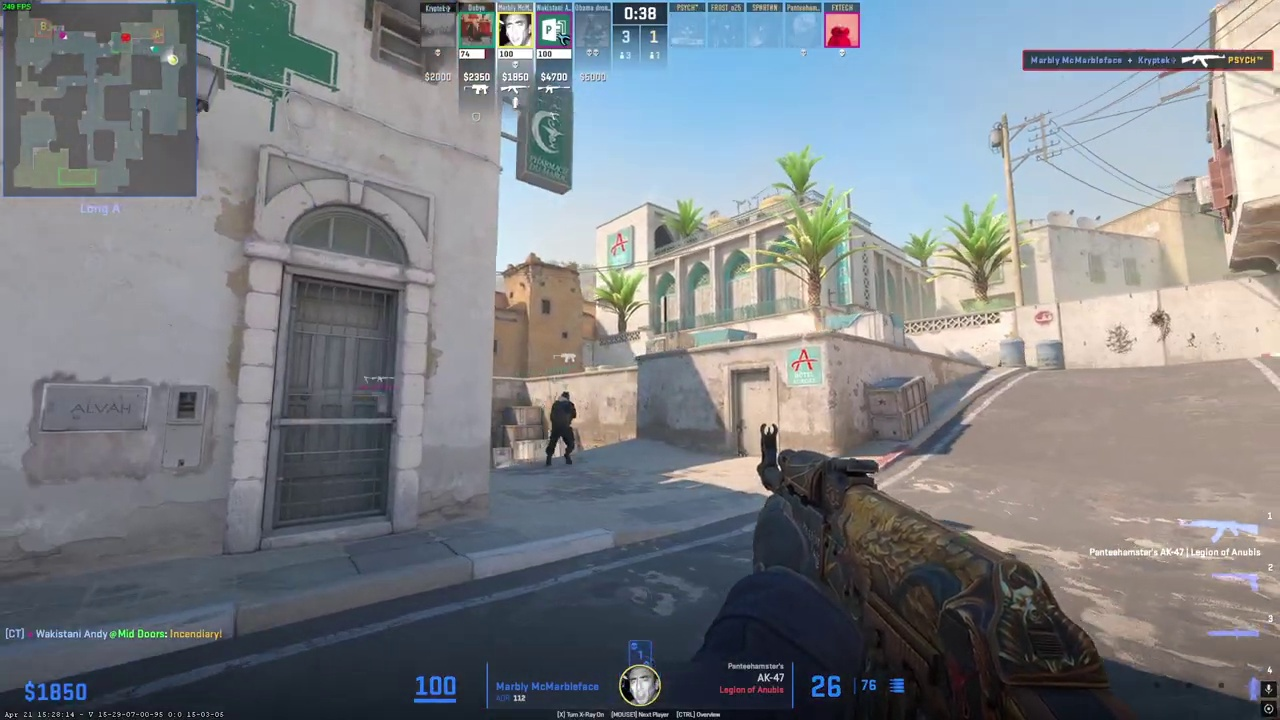CT: (546, 391, 580, 466)
